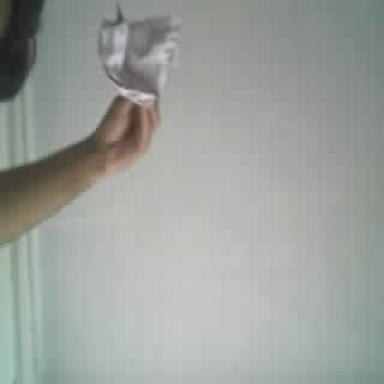paper: (98, 6, 180, 104)
